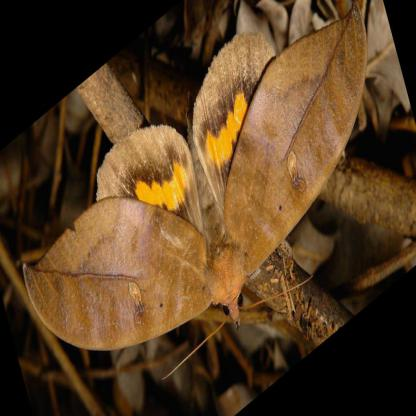fruit sucking moth: (23, 8, 367, 349)
